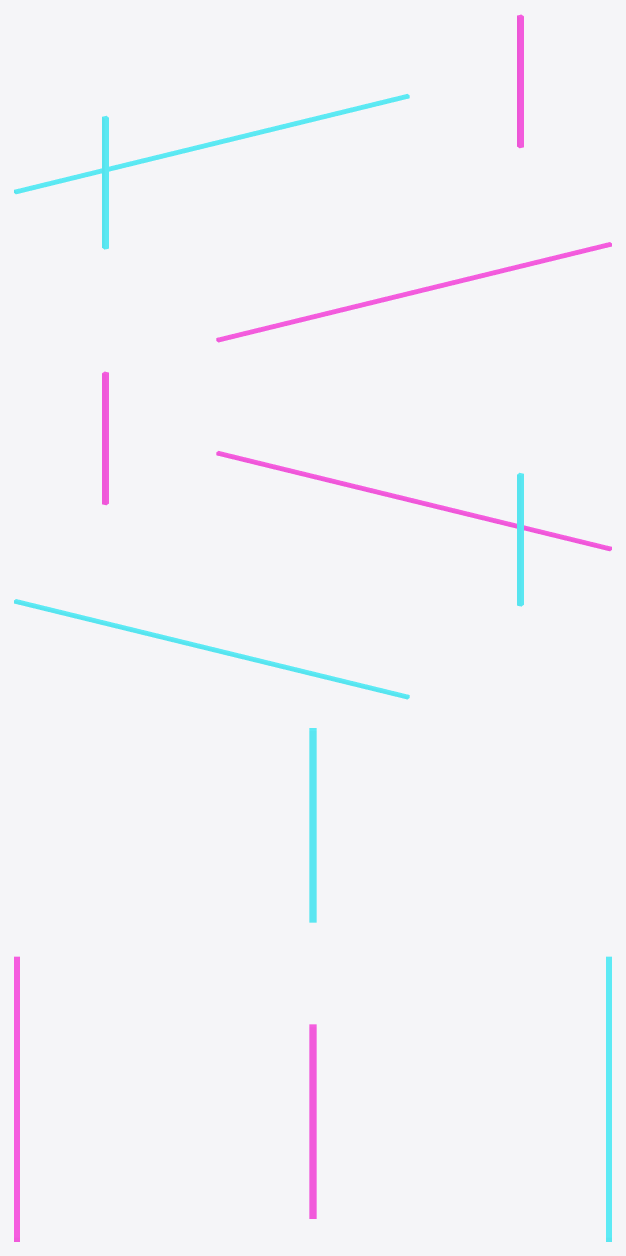
File: garage_neon_tuning_kit.glb
3 views of the same model, one above another, from view 1: azimuth 30°, elevation 25°; view 2: azimuth 150°, elevation 25°; view 3: azimuth 270°, elevation 25° (orthographic). The views are drawn at different scales.
Visible parts, largest first — view 1: garage_neon_tuning_kit; view 2: garage_neon_tuning_kit; view 3: garage_neon_tuning_kit.
Boxes of the visible parts, x1,y1,x2,y2 form: garage_neon_tuning_kit: (14,14,611,342); garage_neon_tuning_kit: (14,371,611,699); garage_neon_tuning_kit: (14,728,611,1241).
Size of the model in its own units: 11.72 by 4.09 by 9.9.
